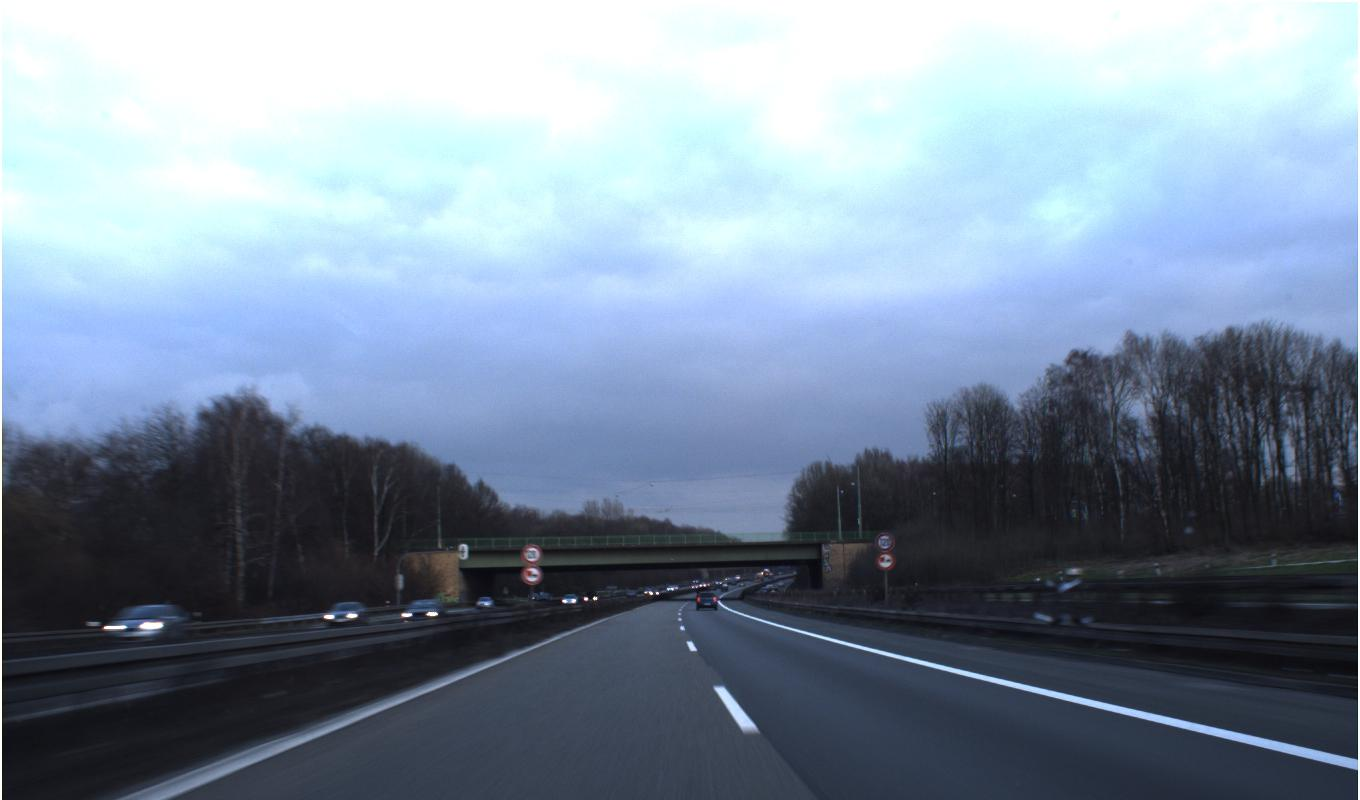prohibitory: (520, 564, 543, 585), (875, 550, 896, 571), (521, 544, 542, 564), (874, 532, 895, 551)
